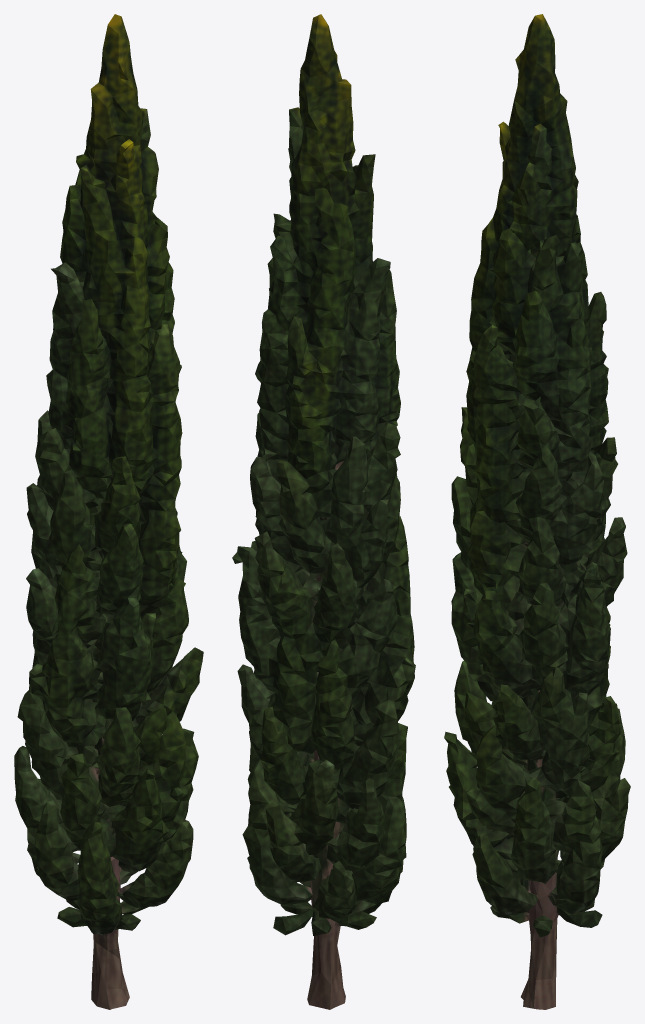
Rendered from it_cypress.glb.
3 views of the same model, side by side, from view 1: azimuth 30°, elevation 25°; view 2: azimuth 150°, elevation 25°; view 3: azimuth 270°, elevation 25° (orthographic).
Parts seen in each view (by area): view 1: geometry_0; view 2: geometry_0; view 3: geometry_0.
Part boxes in pixels (box(x1,y1,x2,y2)): geometry_0: box(14, 14, 203, 1009); geometry_0: box(232, 14, 415, 1009); geometry_0: box(444, 14, 630, 1009).
Bounding box in the file's own units: 0.1762 × 1 × 0.1707.
Materials: 1 (1 with a texture image).
